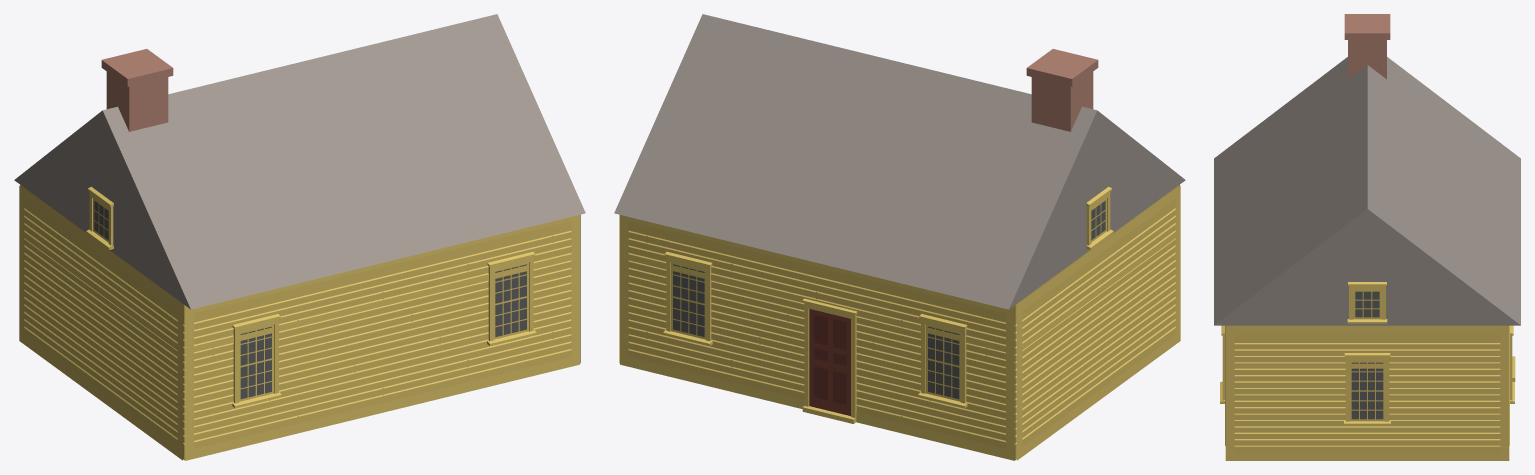
The model's file is kelsey_boarding_house__frame_1835.glb.
The picture shows the model from 3 angles, left to right: view 1: azimuth 30°, elevation 25°; view 2: azimuth 150°, elevation 25°; view 3: azimuth 270°, elevation 25°; orthographic projection. The views are drawn at different scales.
Visible parts, largest first — view 1: kelsey_boarding_house__frame_1835; view 2: kelsey_boarding_house__frame_1835; view 3: kelsey_boarding_house__frame_1835.
Part boxes in pixels (left/top/right/bottom): kelsey_boarding_house__frame_1835: left=14, top=14, right=585, bottom=460; kelsey_boarding_house__frame_1835: left=614, top=14, right=1185, bottom=460; kelsey_boarding_house__frame_1835: left=1214, top=14, right=1520, bottom=460.
Bounding box in the file's own units: 8.73 × 6.75 × 6.6.
